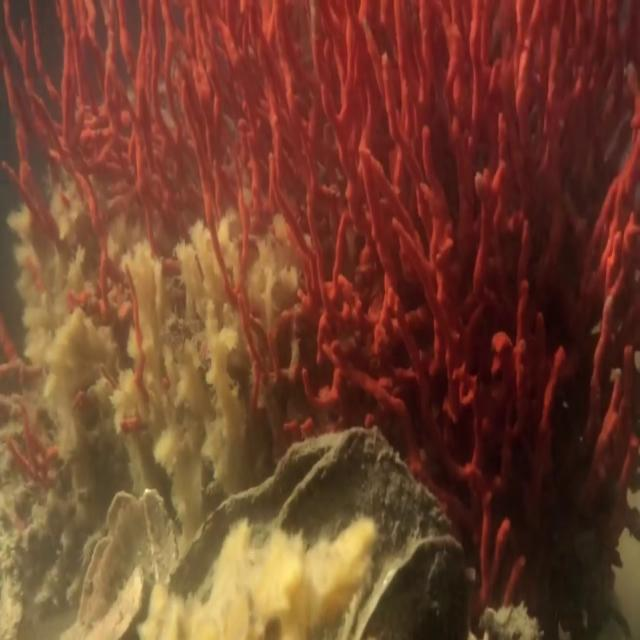Oyster-Closed: (75, 488, 173, 639)
Oyster-Indeterminate: (348, 533, 471, 639)
Oyster-Open: (146, 404, 448, 624)
